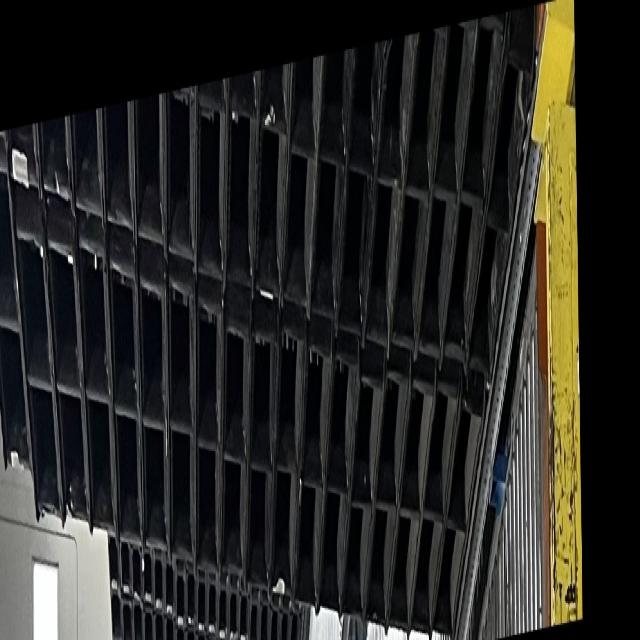igps: (463, 0, 533, 397), (4, 129, 69, 540), (437, 8, 506, 393), (411, 0, 480, 373), (384, 0, 450, 380), (358, 23, 422, 376), (428, 351, 492, 640), (330, 21, 383, 368), (302, 32, 358, 353), (43, 200, 95, 542), (405, 357, 464, 640), (74, 229, 124, 560), (360, 346, 416, 640), (380, 357, 438, 640), (335, 344, 391, 634), (274, 39, 328, 339), (311, 328, 364, 626), (288, 308, 338, 621), (245, 49, 298, 333), (106, 236, 148, 572), (266, 296, 310, 614), (218, 53, 268, 322), (0, 118, 35, 488), (135, 240, 173, 577), (244, 295, 283, 599), (190, 58, 234, 318), (166, 256, 200, 590), (220, 271, 254, 600), (193, 276, 227, 579), (161, 66, 201, 300), (128, 76, 172, 280), (93, 85, 139, 266), (62, 90, 112, 244), (29, 99, 78, 237), (106, 525, 122, 640), (151, 533, 166, 640), (120, 523, 132, 640), (142, 535, 154, 640), (132, 533, 143, 640), (184, 556, 197, 640), (175, 555, 187, 640), (164, 556, 176, 640), (217, 566, 230, 640), (206, 572, 220, 640), (227, 568, 240, 638), (196, 567, 208, 640), (237, 582, 252, 640), (248, 586, 262, 640)
